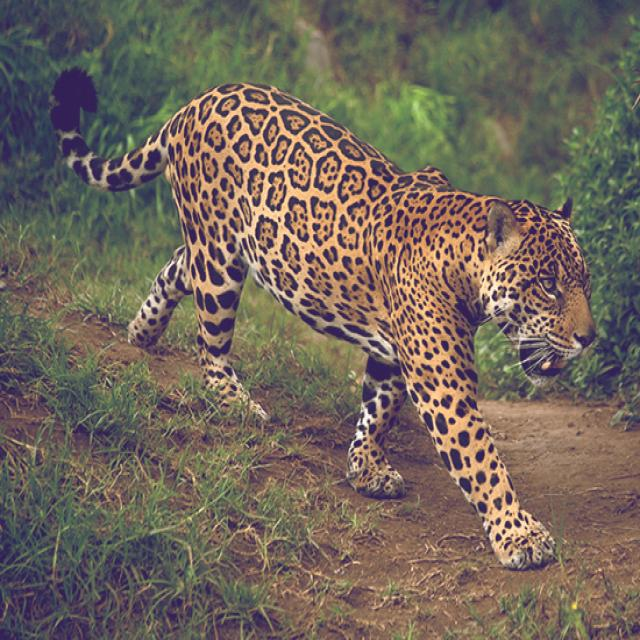Jaguar: (49, 65, 603, 572)
